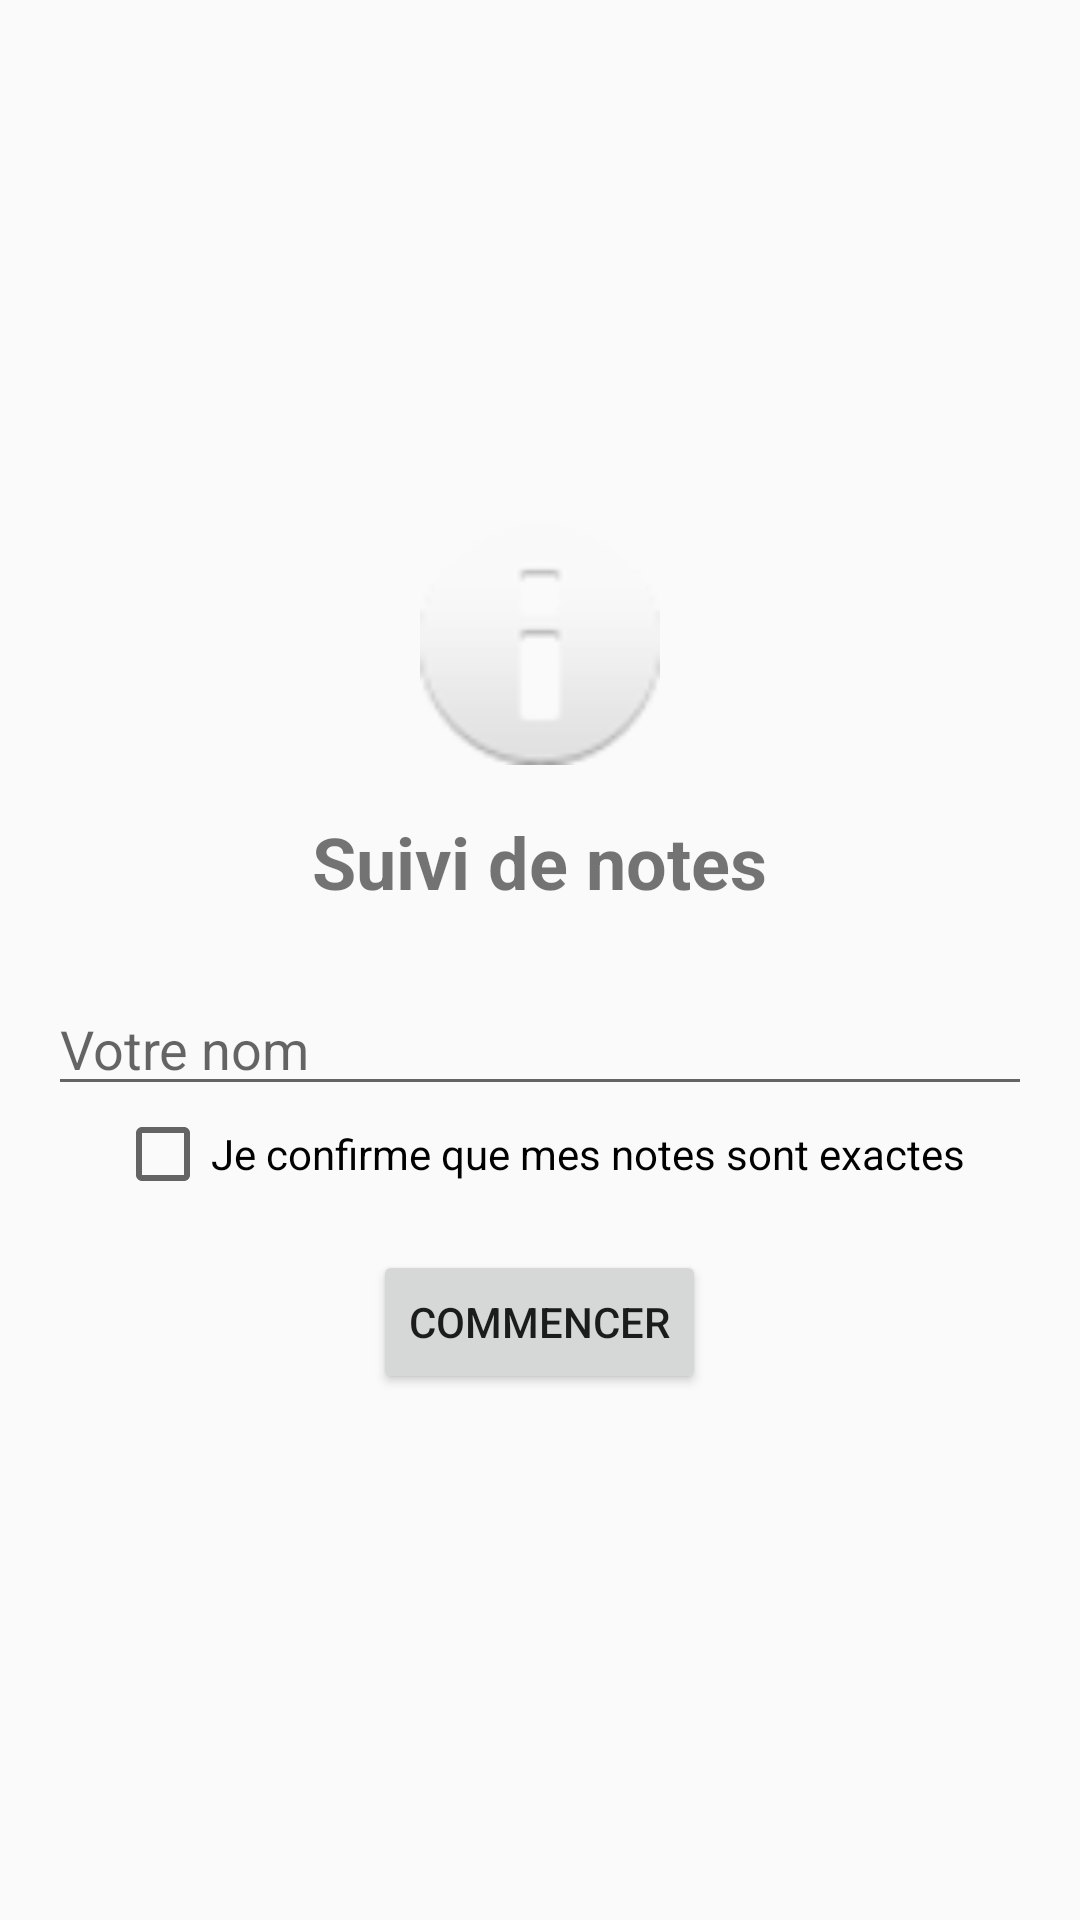

Locate icon controls on the screen. Image size 1080 × 1920, boxes as [x1,y1,x2,y2].
info: [420,569,660,765]
